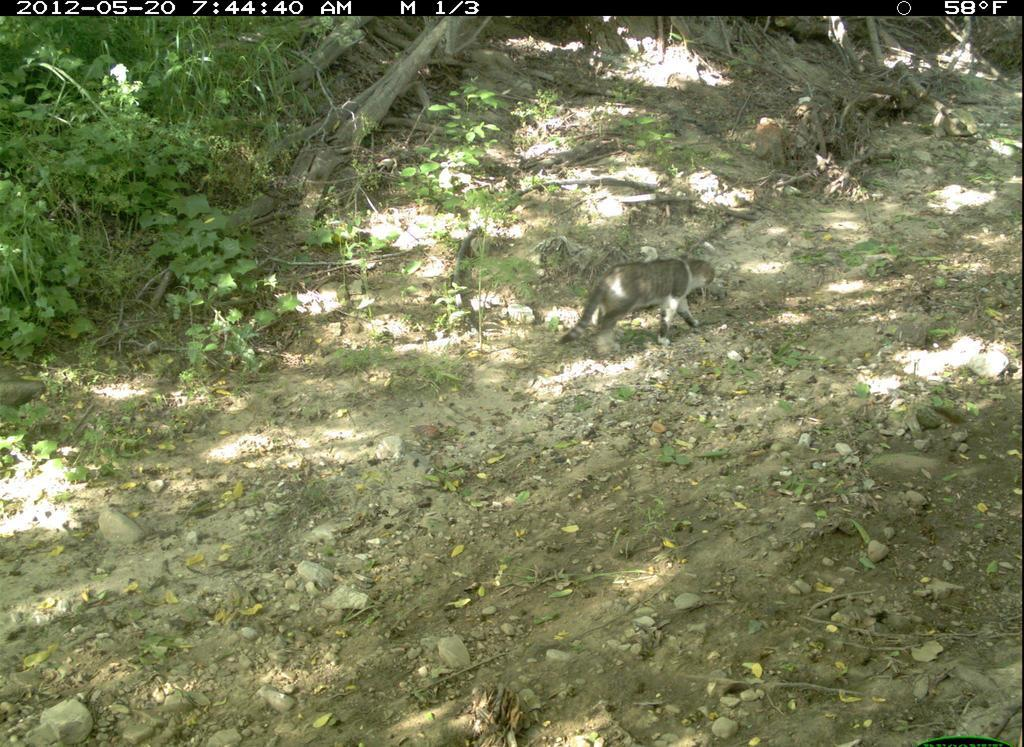cat: (556, 245, 720, 358)
